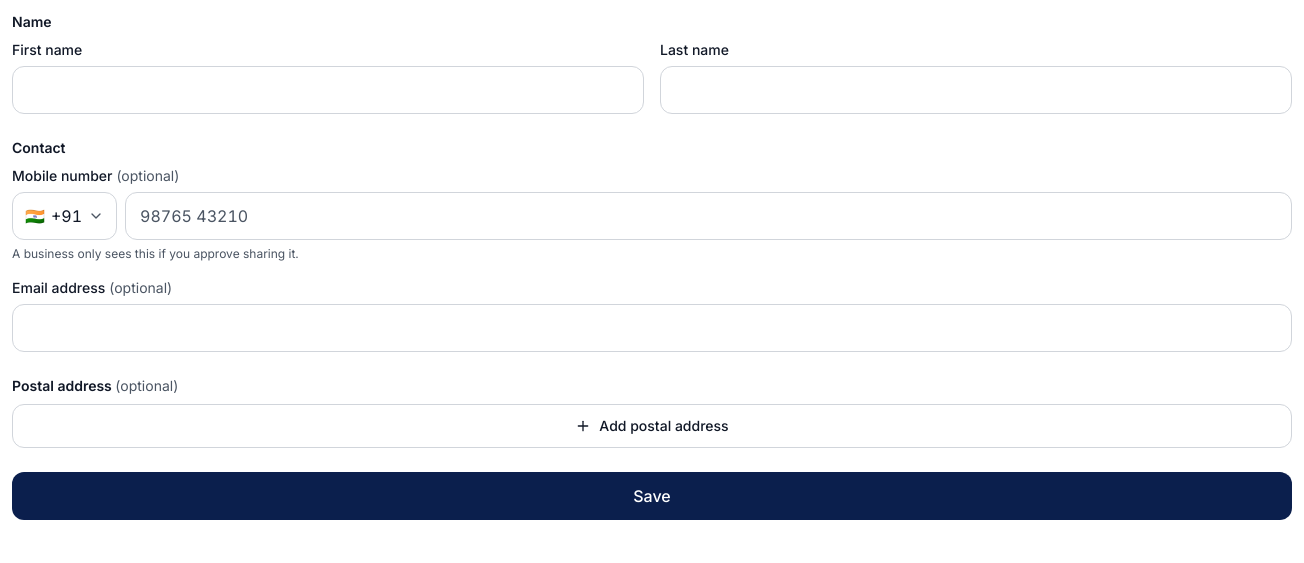
Test: ProfileForm › blocks saving without a name and says why
The width and height of the screenshot is (1304, 563).
Click the button "Save" at (652, 496), box [12,472,1292,520]
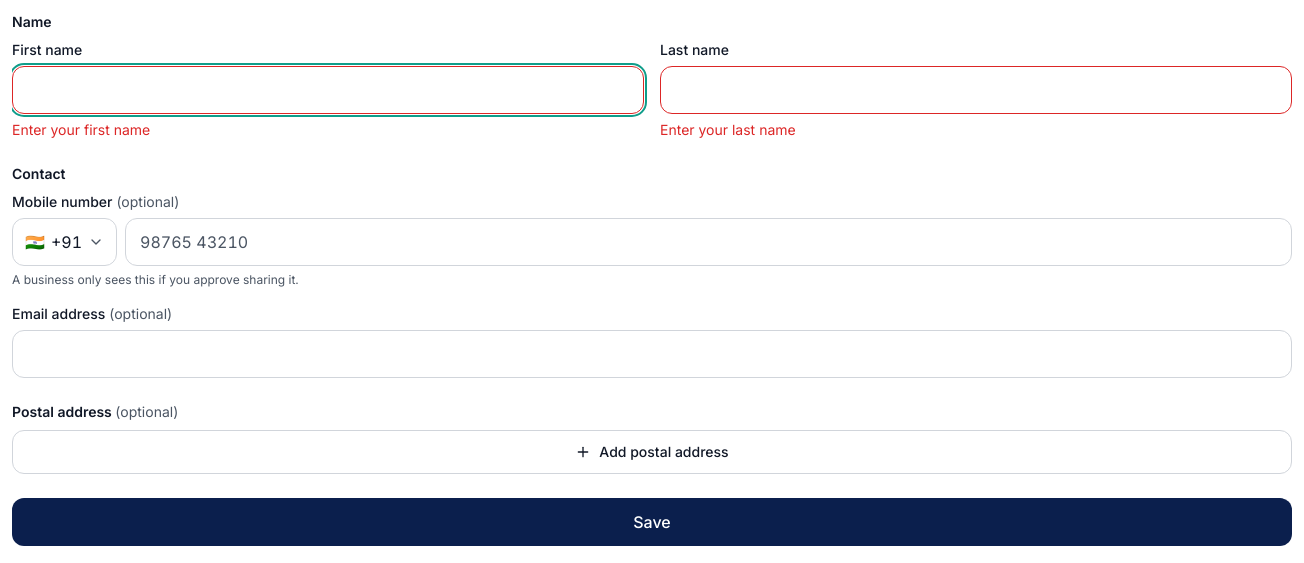
Now the text "Enter your first name" is shown, box [12,121,150,138]
